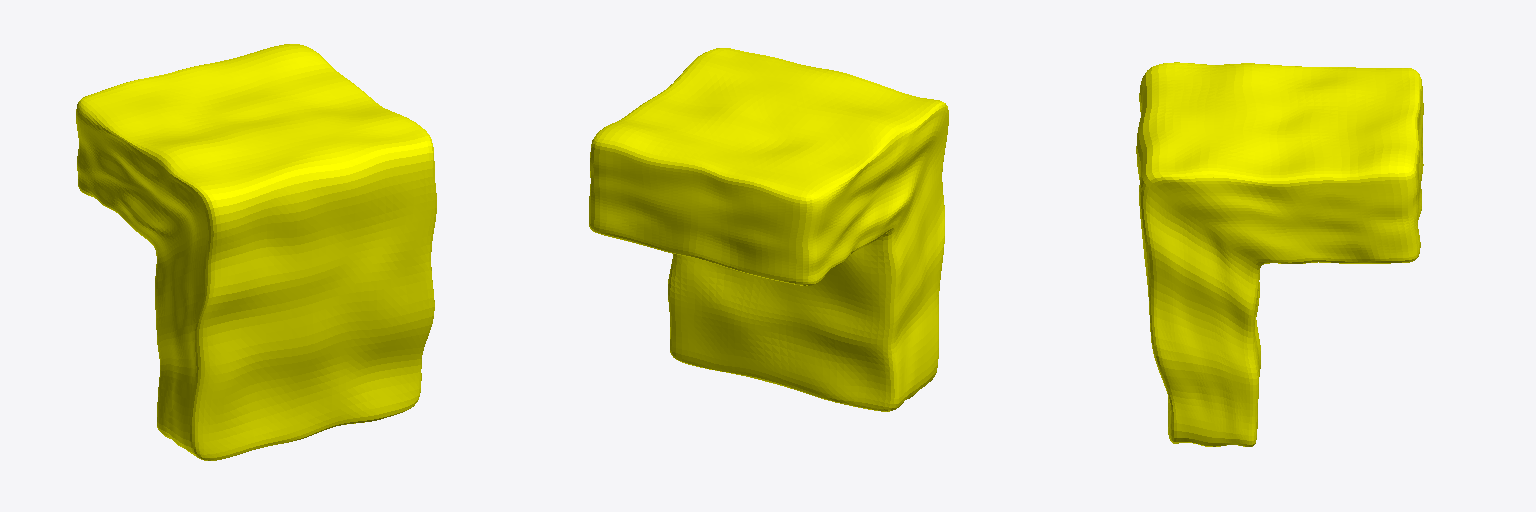
File: reel.obj
3 views of the same model, side by side, from view 1: azimuth 30°, elevation 25°; view 2: azimuth 150°, elevation 25°; view 3: azimuth 270°, elevation 25° (orthographic).
Parts seen in each view (by area): view 1: reel; view 2: reel; view 3: reel.
Boxes of the visible parts, <box> form: reel: <box>76,44,436,460</box>; reel: <box>589,48,948,411</box>; reel: <box>1136,62,1423,446</box>.
Bounding box in the file's own units: 3.14 × 3.65 × 3.29.